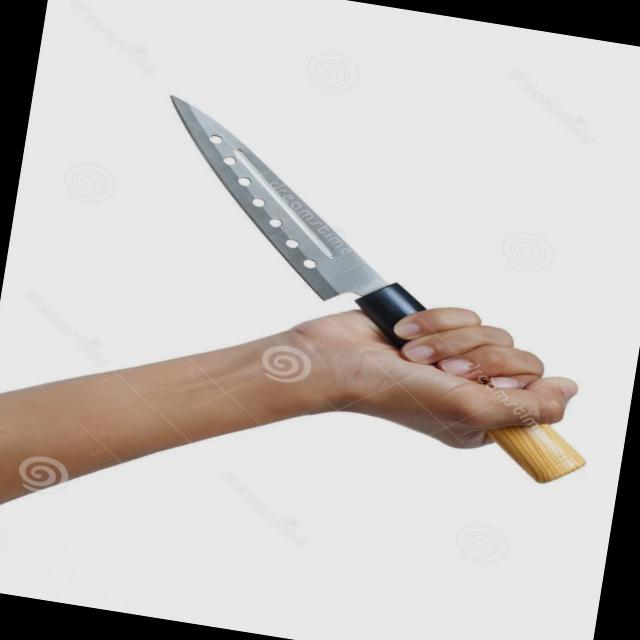knife: (122, 88, 550, 400)
